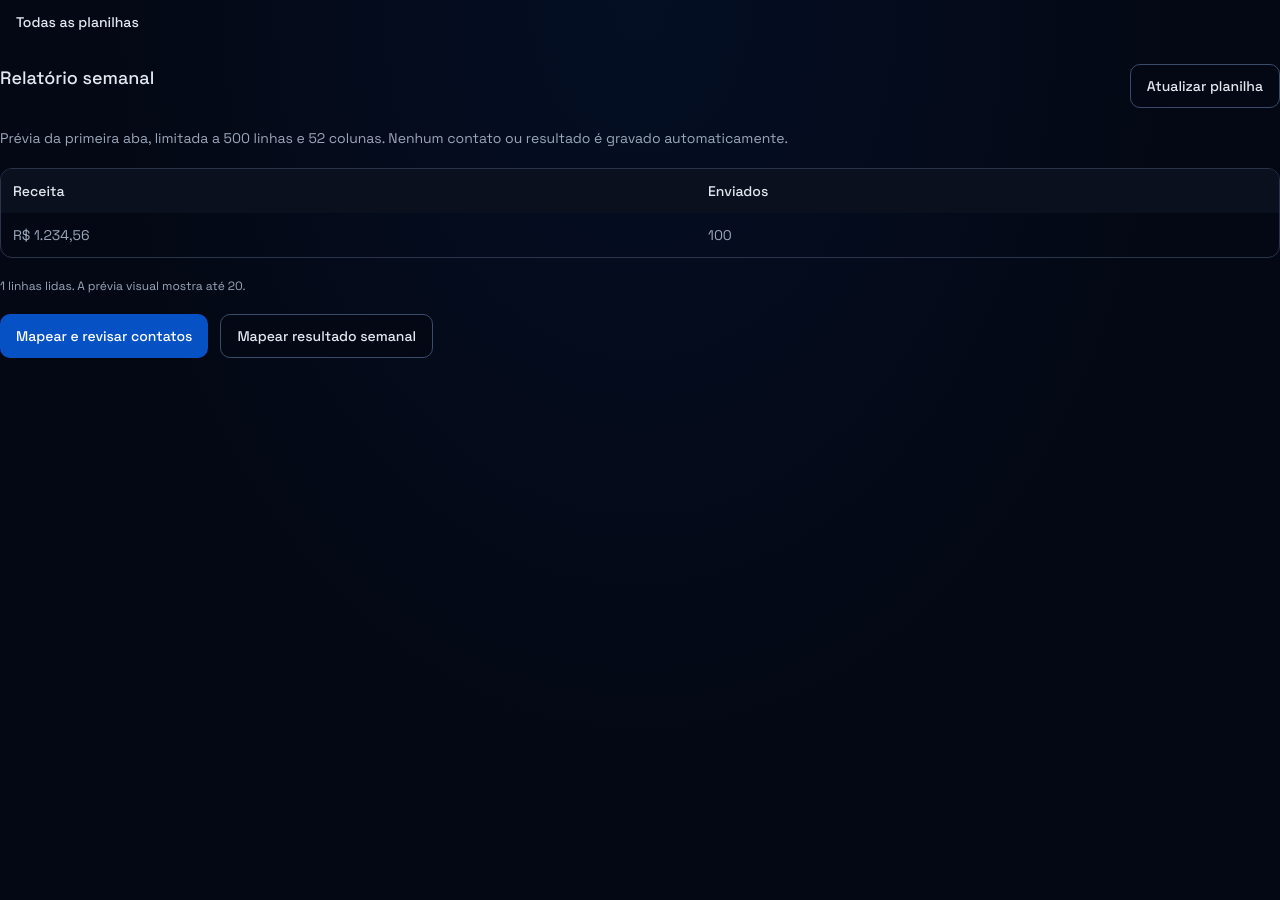
Test case: Workspace human review › prefills a Brazilian currency result for review without registering a report
The width and height of the screenshot is (1280, 900).
Click the button "Mapear resultado semanal": coordinates (327, 336) [220,314,433,358]
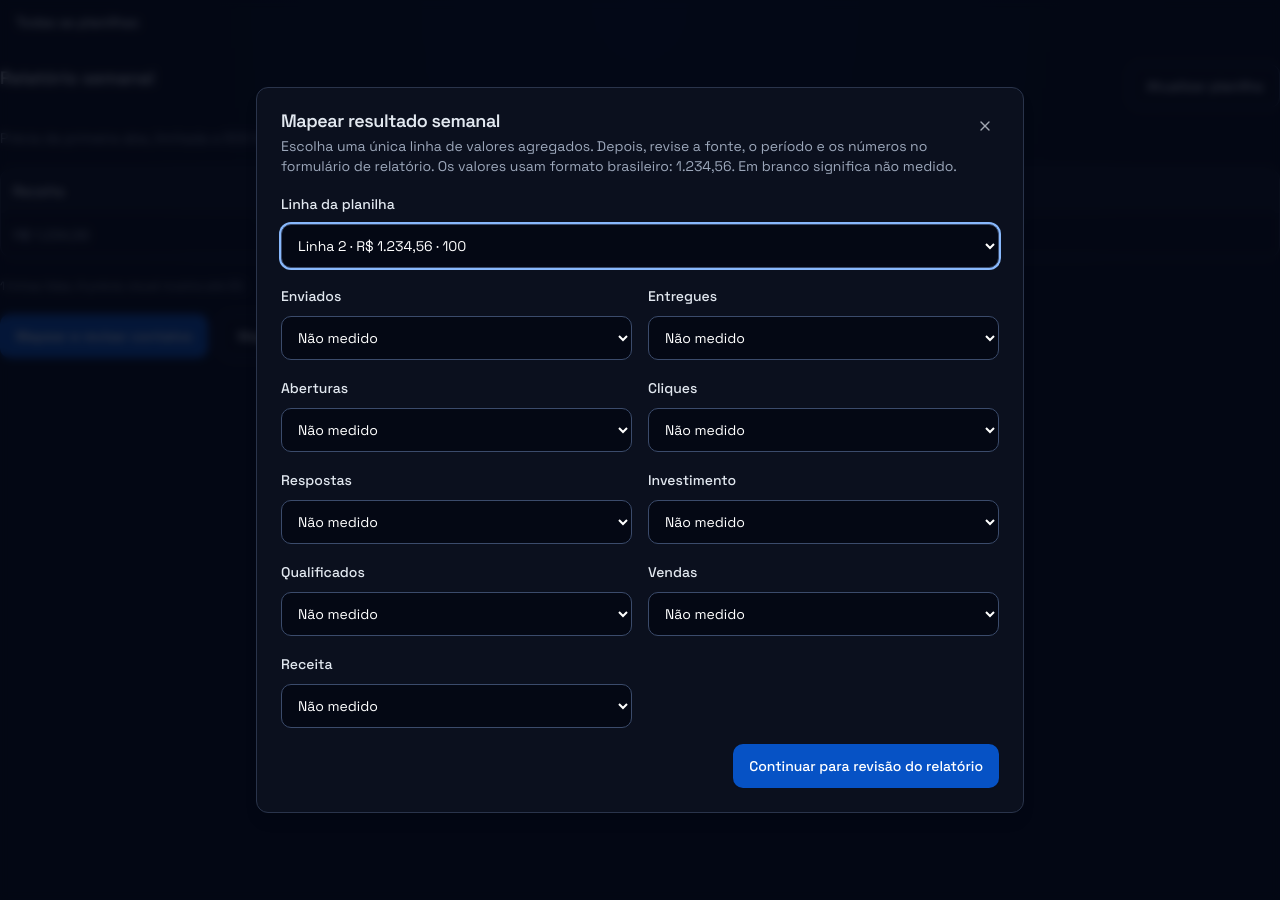
Select "Receita · R$ 1.234,56" in the dropdown labelled "Receita": coordinates (456, 706) [281,684,632,728]
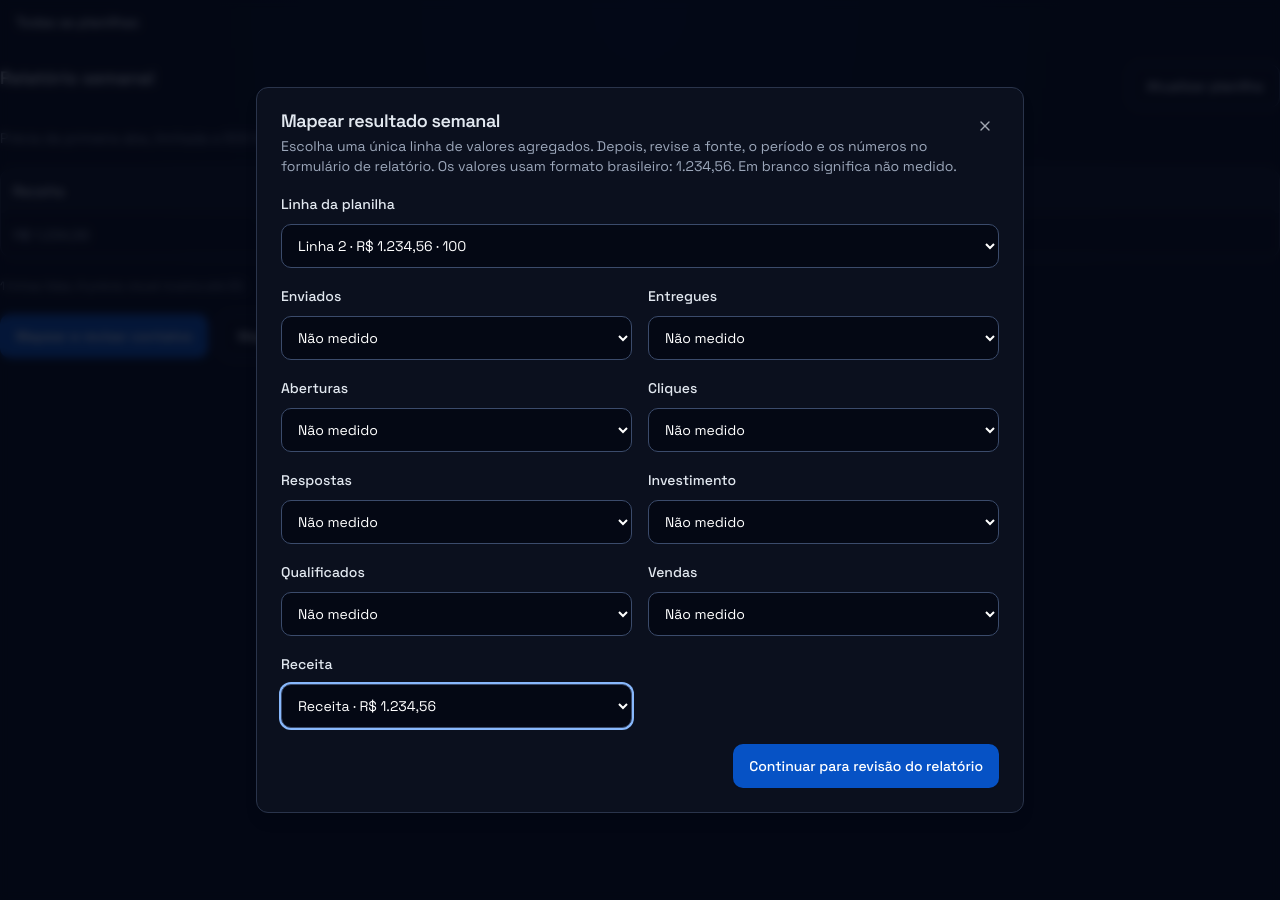
Click the button "Continuar para revisão do relatório": coordinates (866, 766) [733,744,999,788]
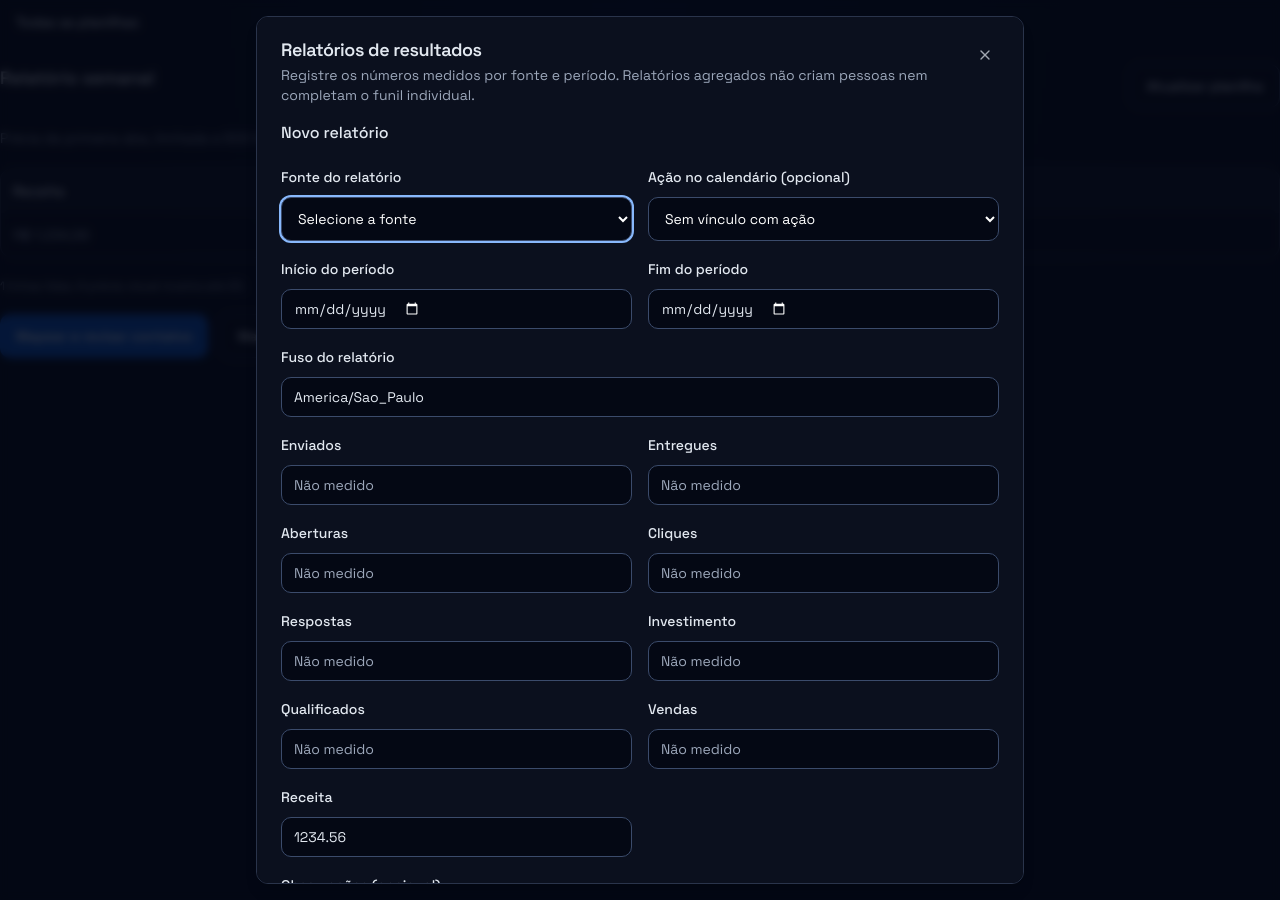
Result: the heading "Novo relatório" is shown at [281,122,389,143]
Result: the number field labelled "Receita" holds "1234.56" at [281,817,632,857]
